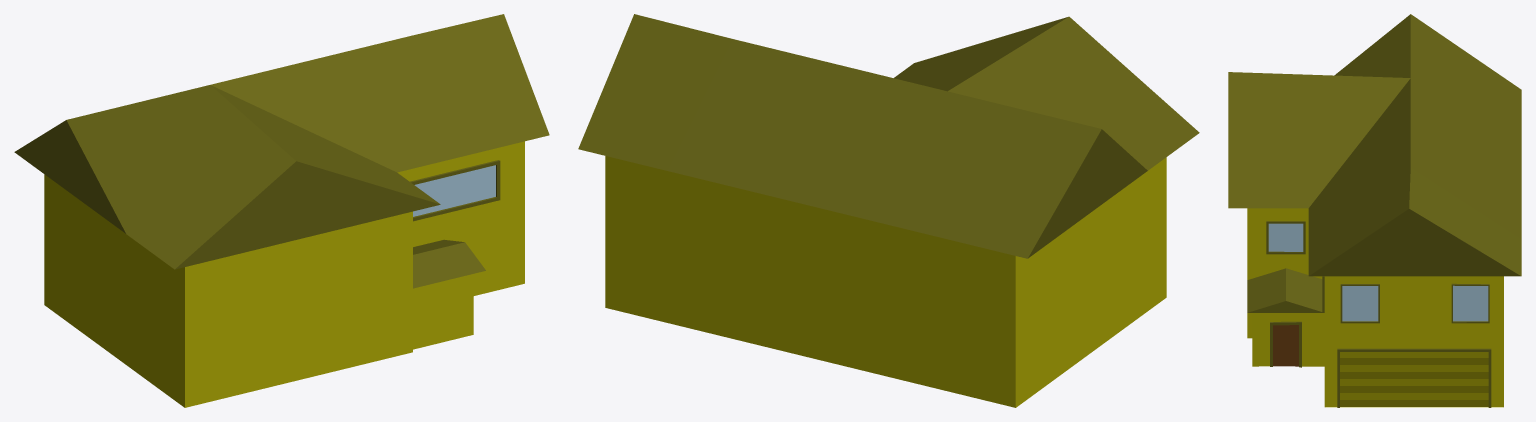
The model's file is yellow residential building 2.fbx.
3 renders of one model, left to right at view 1: azimuth 30°, elevation 25°; view 2: azimuth 150°, elevation 25°; view 3: azimuth 270°, elevation 25°, orthographic. The views are drawn at different scales.
Visible parts, largest first — view 1: Cube; view 2: Cube; view 3: Cube.
Part boxes in pixels (x1=…): Cube: x1=14, y1=14, x2=549, y2=407; Cube: x1=578, y1=14, x2=1199, y2=407; Cube: x1=1228, y1=14, x2=1521, y2=407.
Bounding box in the file's own units: 1191 × 599 × 758.
